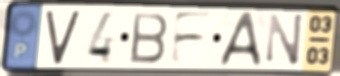4: (82, 9, 118, 66)
A: (216, 9, 265, 68)
B: (128, 10, 171, 65)
F: (167, 10, 216, 67)
N: (265, 12, 306, 68)
V: (44, 8, 83, 67)
